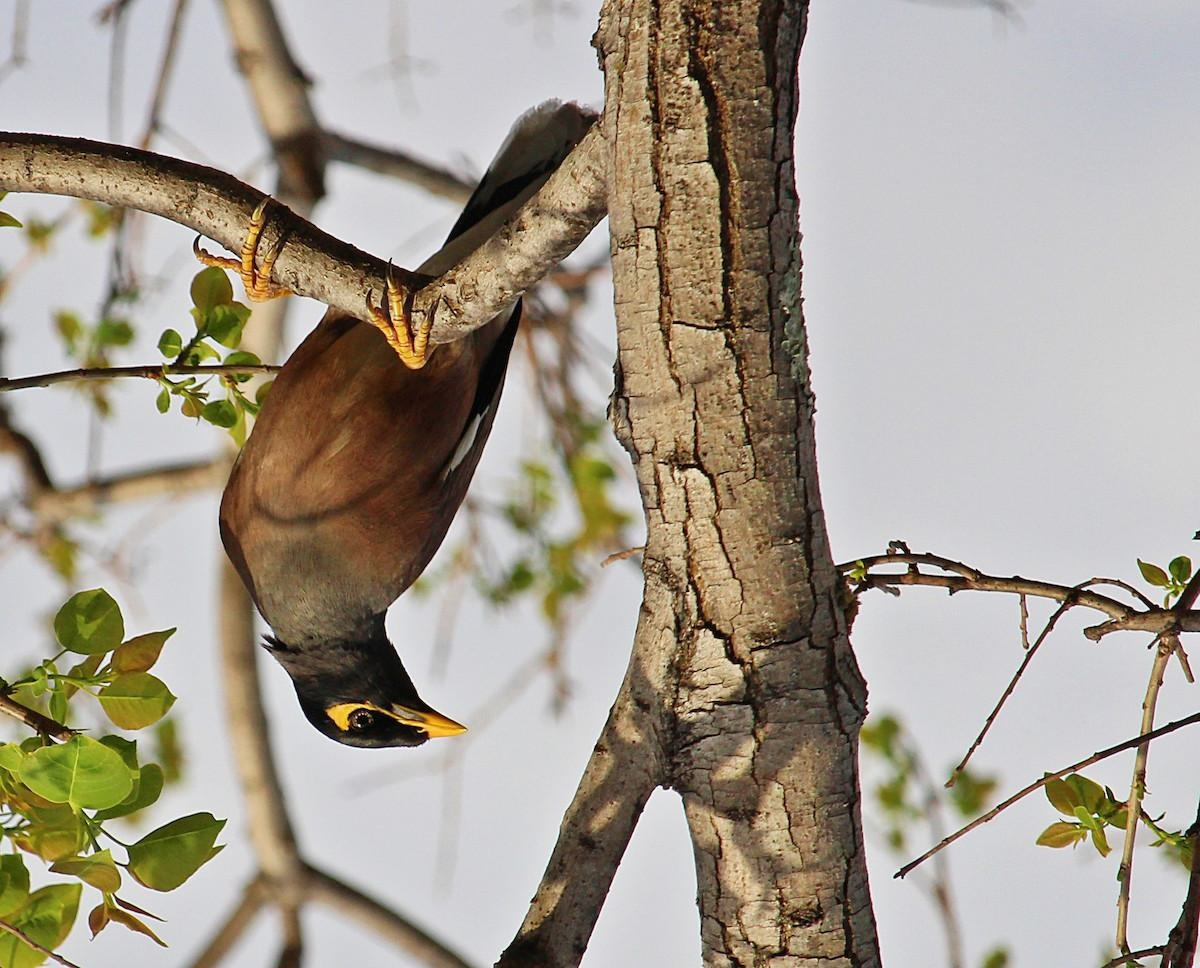myna: (219, 99, 596, 795)
